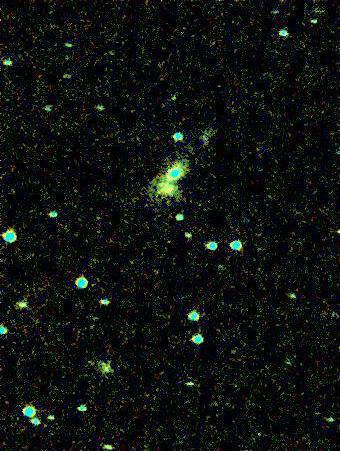star: (321, 217, 340, 247)
